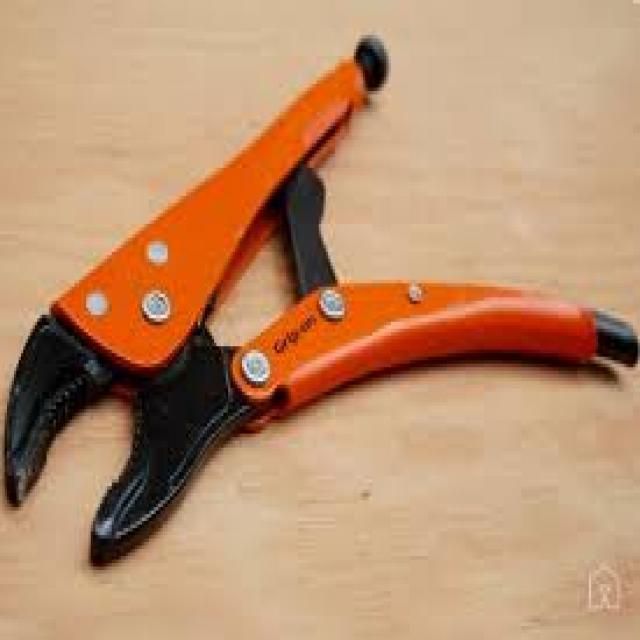pliers: (0, 30, 640, 572)
